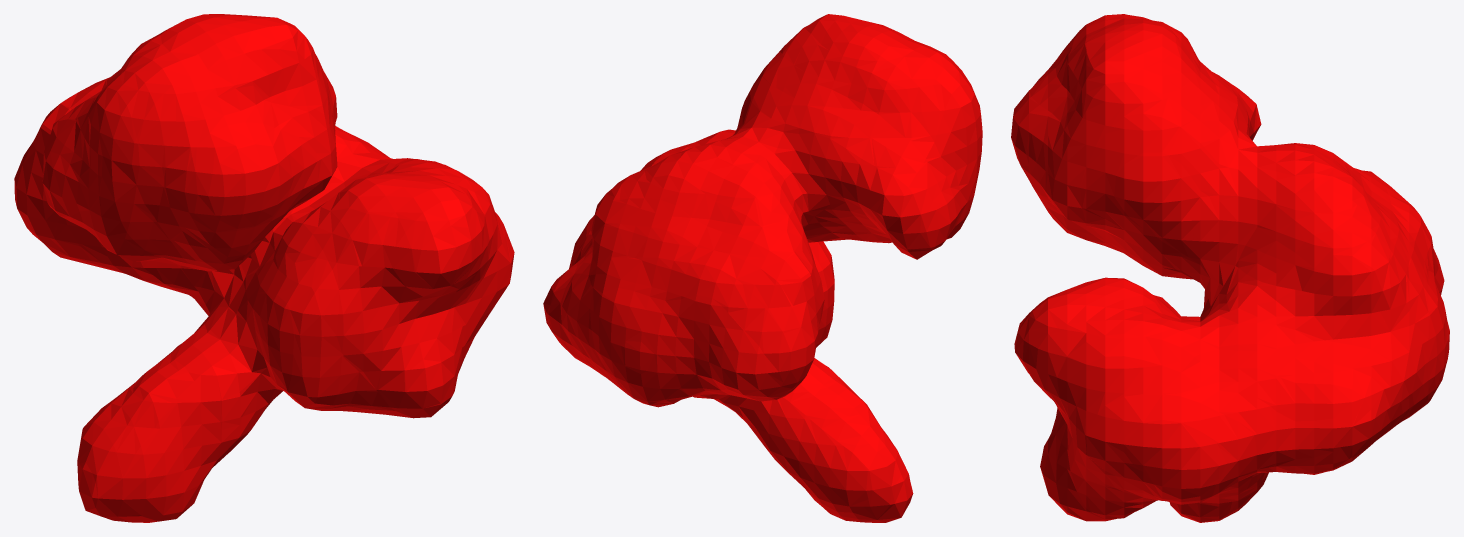
The model's file is yeeN_coarse.dae.
3 renders of one model, left to right at view 1: azimuth 30°, elevation 25°; view 2: azimuth 150°, elevation 25°; view 3: azimuth 270°, elevation 25°, orthographic. The views are drawn at different scales.
Visible parts, largest first — view 1: yeeN; view 2: yeeN; view 3: yeeN.
Boxes of the visible parts, bbox=[...] form: yeeN: bbox=[14, 14, 514, 522]; yeeN: bbox=[543, 14, 982, 522]; yeeN: bbox=[1011, 14, 1449, 522].
Bounding box in the file's own units: 55.55 × 63.7 × 50.57.
